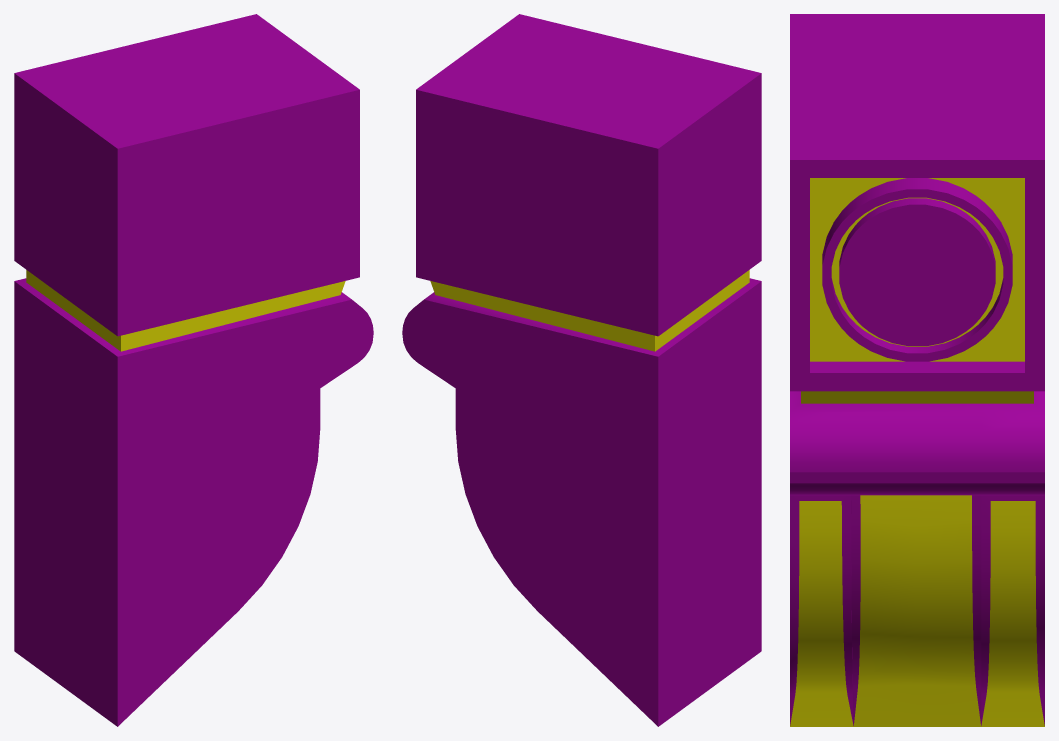
Rendered from Wooden_Strut_Fancy.fbx.
3 renders of one model, left to right at view 1: azimuth 30°, elevation 25°; view 2: azimuth 150°, elevation 25°; view 3: azimuth 270°, elevation 25°, orthographic. The views are drawn at different scales.
Parts seen in each view (by area): view 1: pCube56; view 2: pCube56; view 3: pCube56.
Part boxes in pixels (x1,y1,x2,y2): pCube56: (14, 14, 373, 726); pCube56: (402, 14, 761, 726); pCube56: (790, 14, 1044, 726).
Size of the model in its own units: 2.36 by 5.08 by 1.65.
